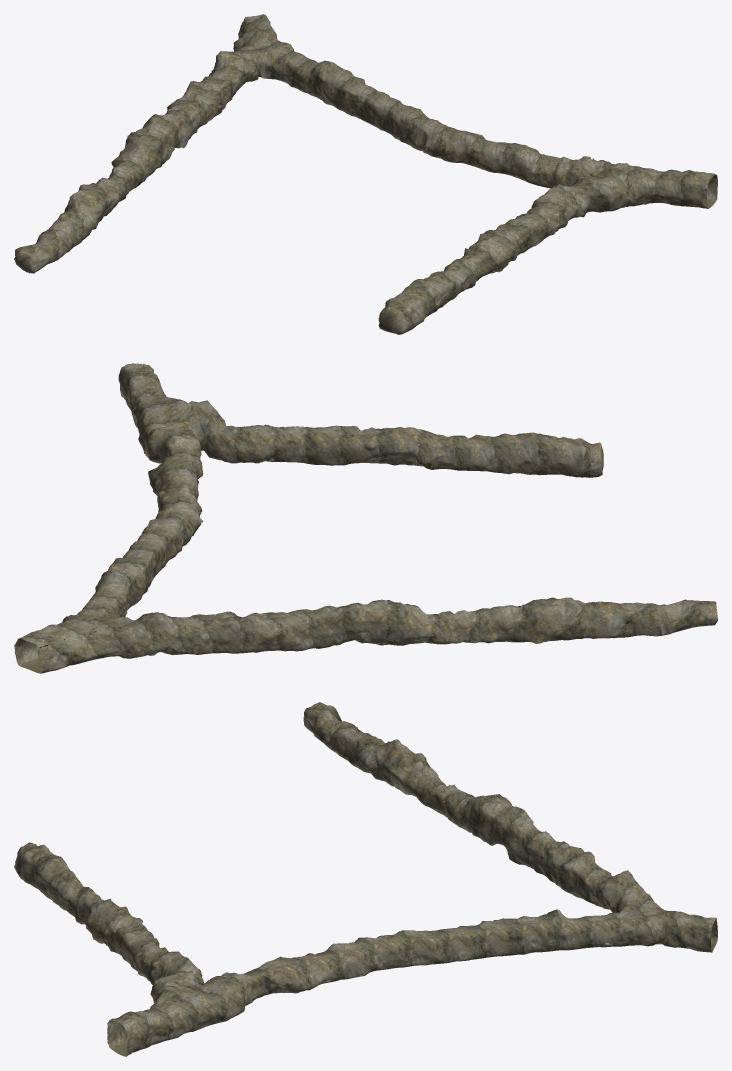
Rendered from Edgar_Section_04.DAE.
3 renders of one model, top to bottom at view 1: azimuth 30°, elevation 25°; view 2: azimuth 150°, elevation 25°; view 3: azimuth 270°, elevation 25°, orthographic. The views are drawn at different scales.
Visible parts, largest first — view 1: Section_04_Walls; view 2: Section_04_Walls; view 3: Section_04_Walls.
Boxes of the visible parts, x1,y1,x2,y2 form: Section_04_Walls: [14, 14, 717, 334]; Section_04_Walls: [14, 363, 717, 673]; Section_04_Walls: [14, 702, 717, 1056].
Size of the model in its own units: 6243 by 528 by 5736.
Materials: 5 (5 with a texture image).
